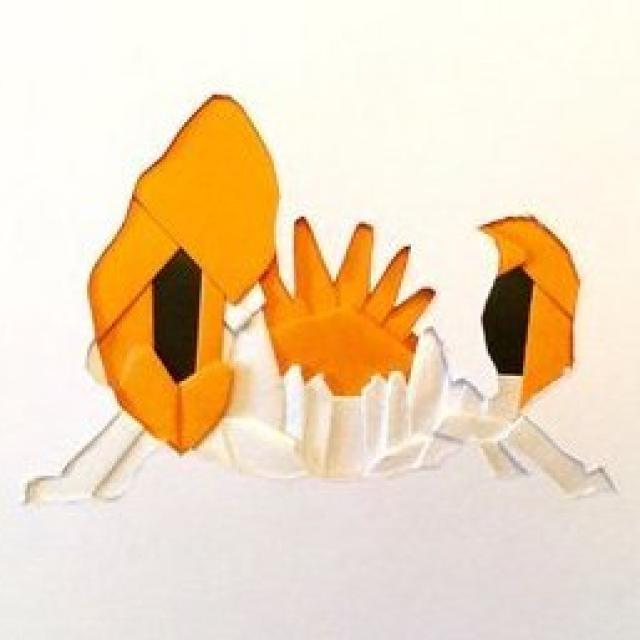Kingler: (78, 92, 579, 488)
